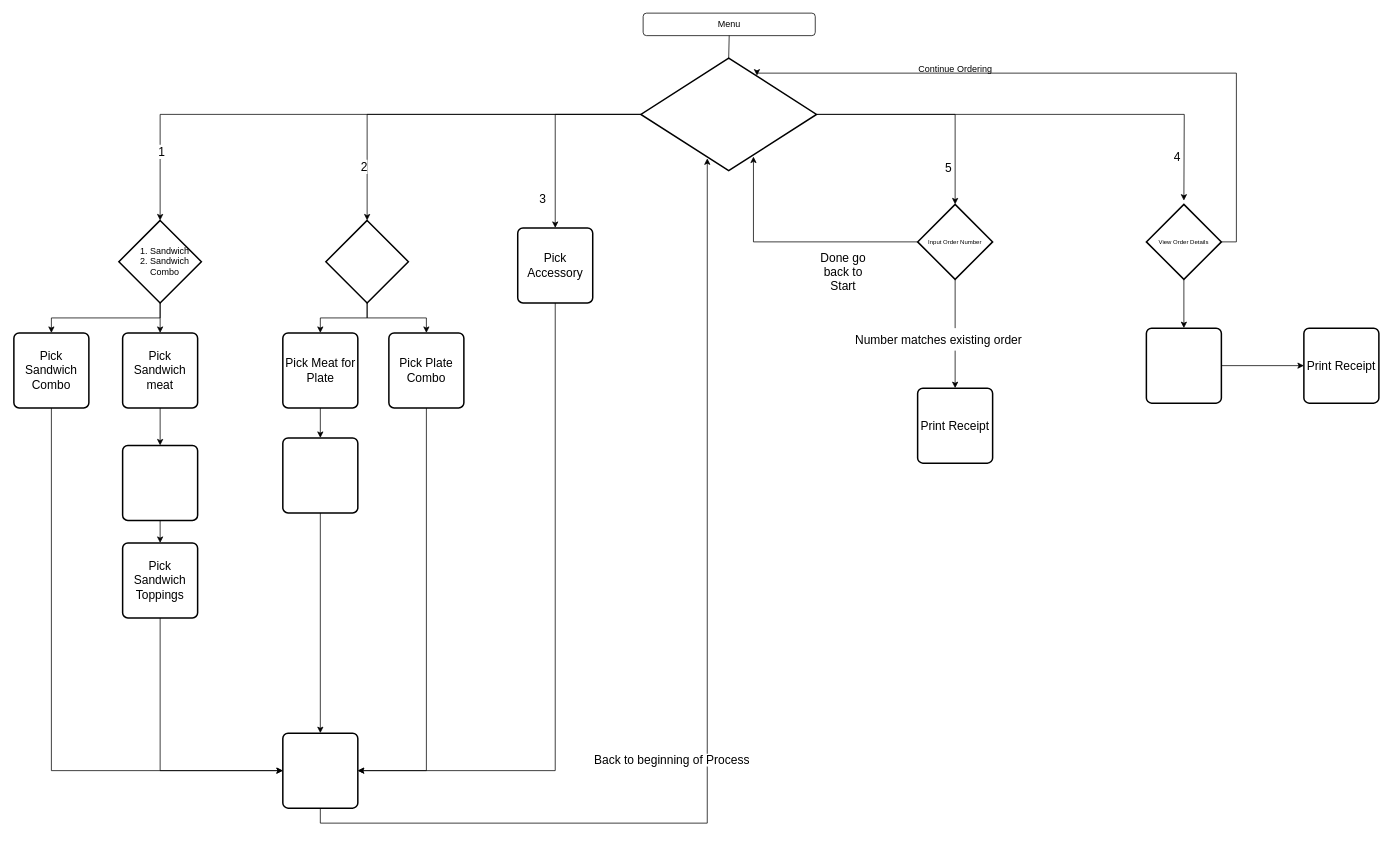
The diagram is 1392 pixels wide and 842 high, and some of its shapes have lost their labels. The centre of each missing label's shape, as x and y in pixels:
"Add To Cart" goes at point 320,770.
"Check out" goes at point 1183,365.
"Pick Meat Sides" goes at point 320,475.
"Pick Sandwich Bread" goes at point 160,482.
"Plate Plate Combo" goes at point 367,261.
"Sandwich Plate Accessories View Cart Order History" goes at point 728,114.
